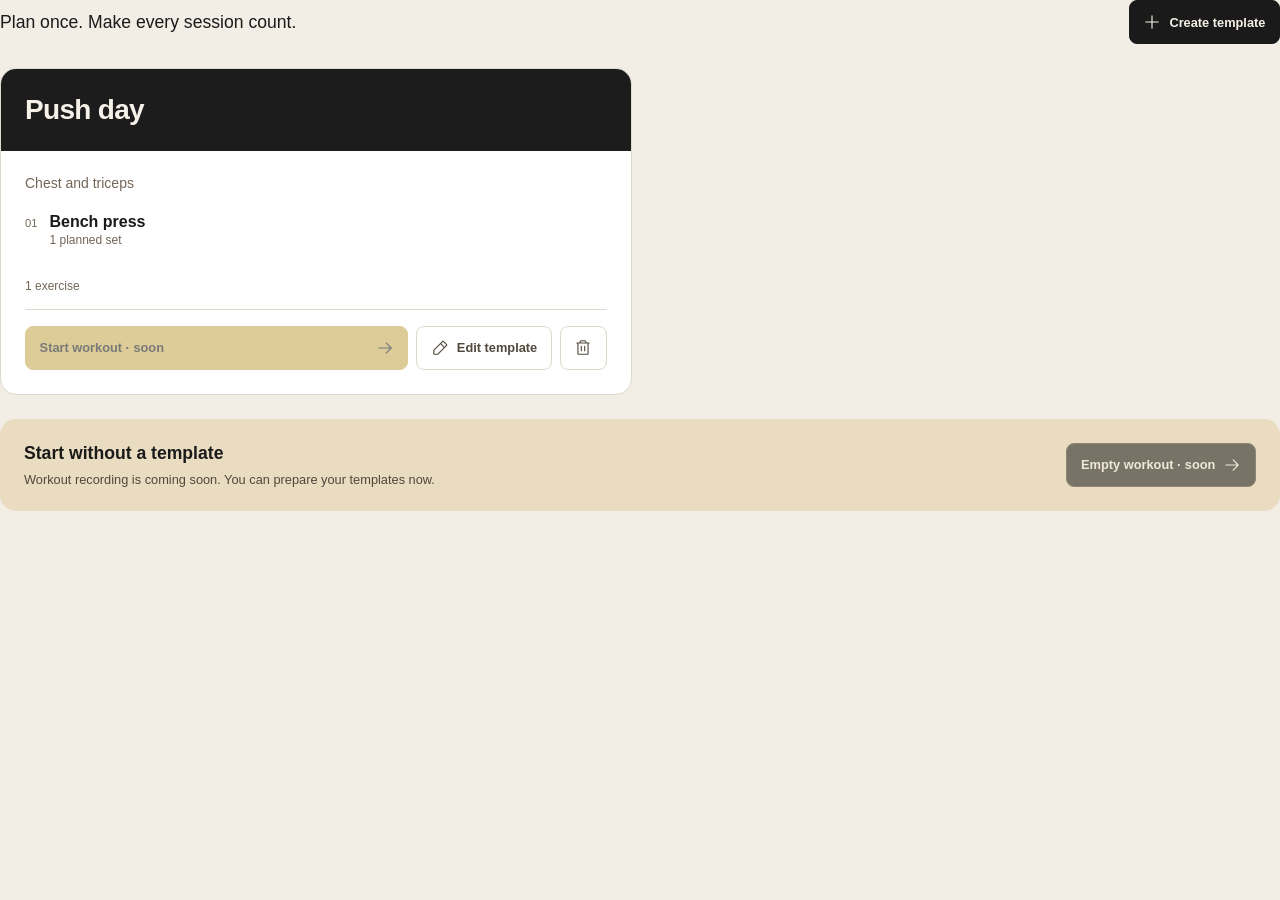
workout templates › rejects invalid weight and protects an unsaved draft when cancelled
Click the button with aria-label "Edit Push day" at [484, 348], box [416, 326, 552, 370]
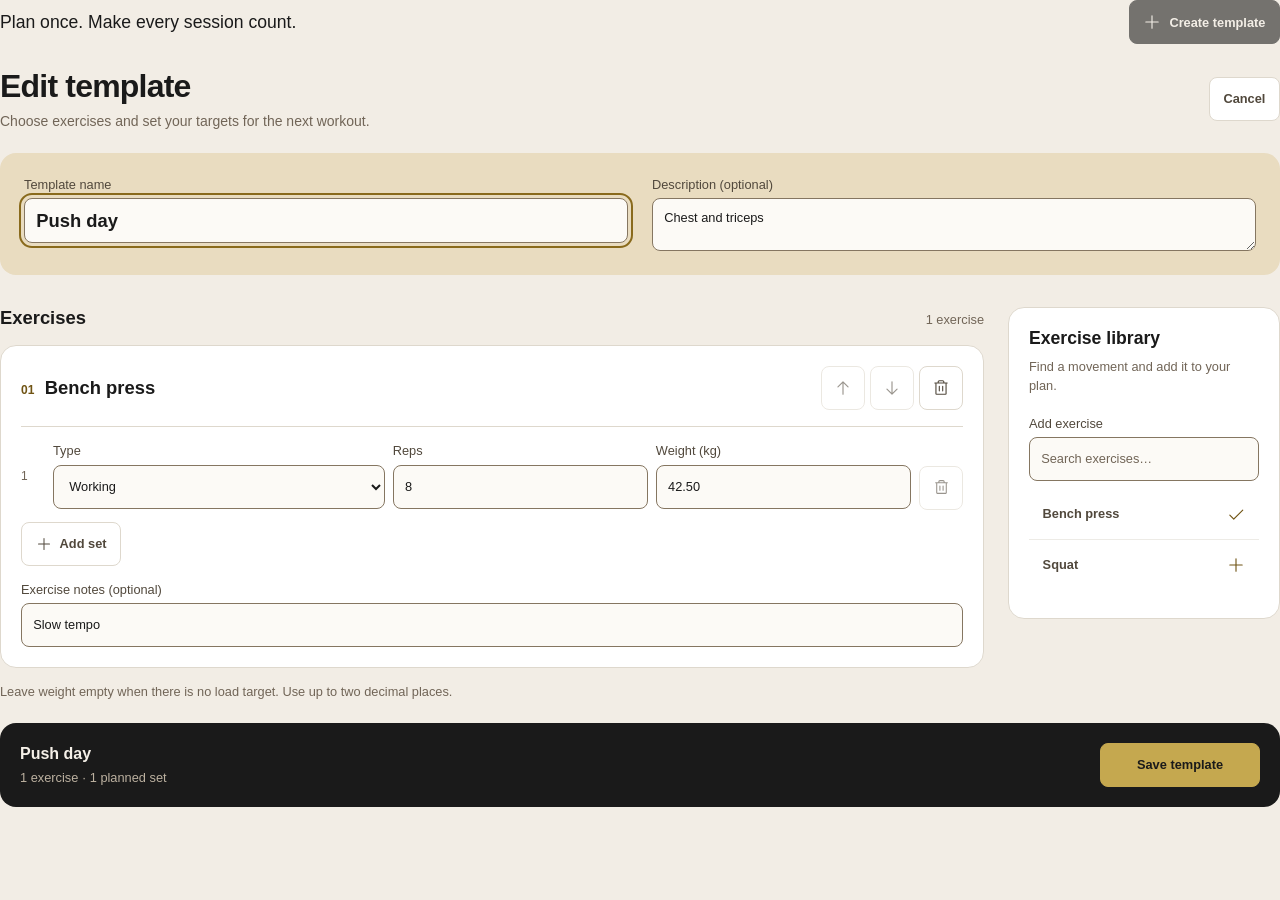
Replace the text in the field named "Exercise 1, set 1 weight (kg)" with "-1" at [783, 487], box [656, 465, 911, 509]
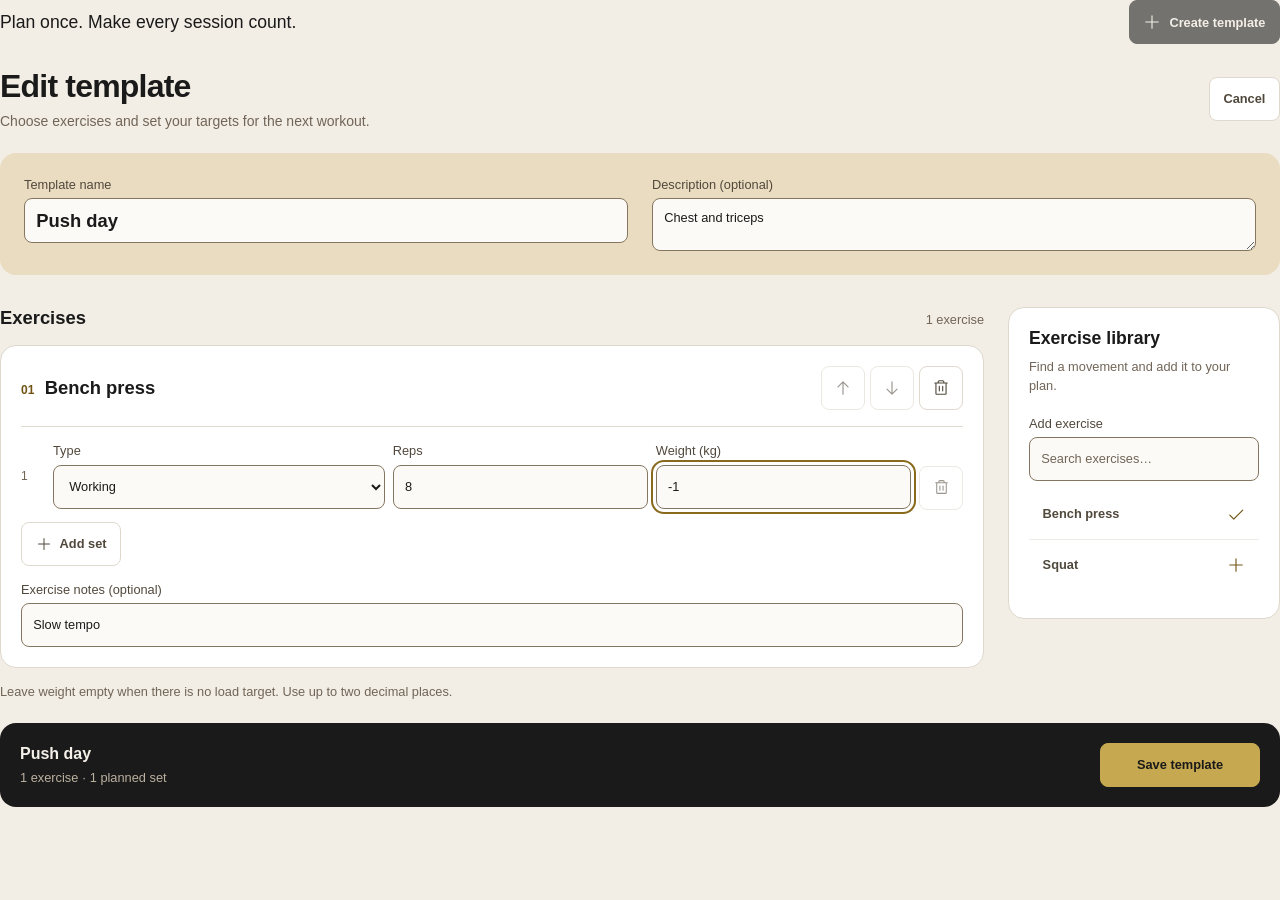
Click the button "Save template" at [1180, 765], box [1100, 743, 1260, 787]
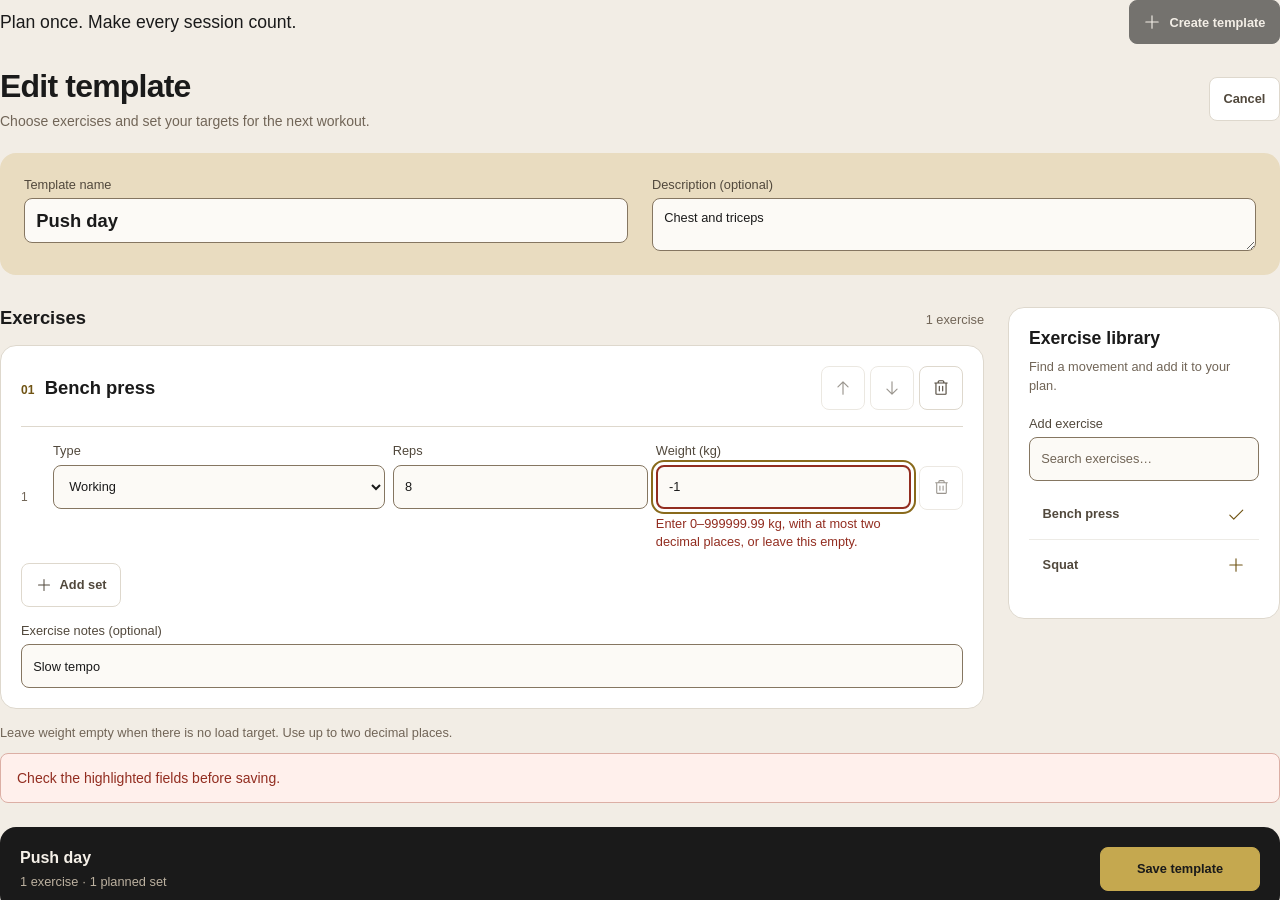
expect the message shows "Check the highlighted fields": met, box [17, 770, 280, 786]
Click the button "Cancel" at [1244, 98], box [1209, 76, 1279, 120]
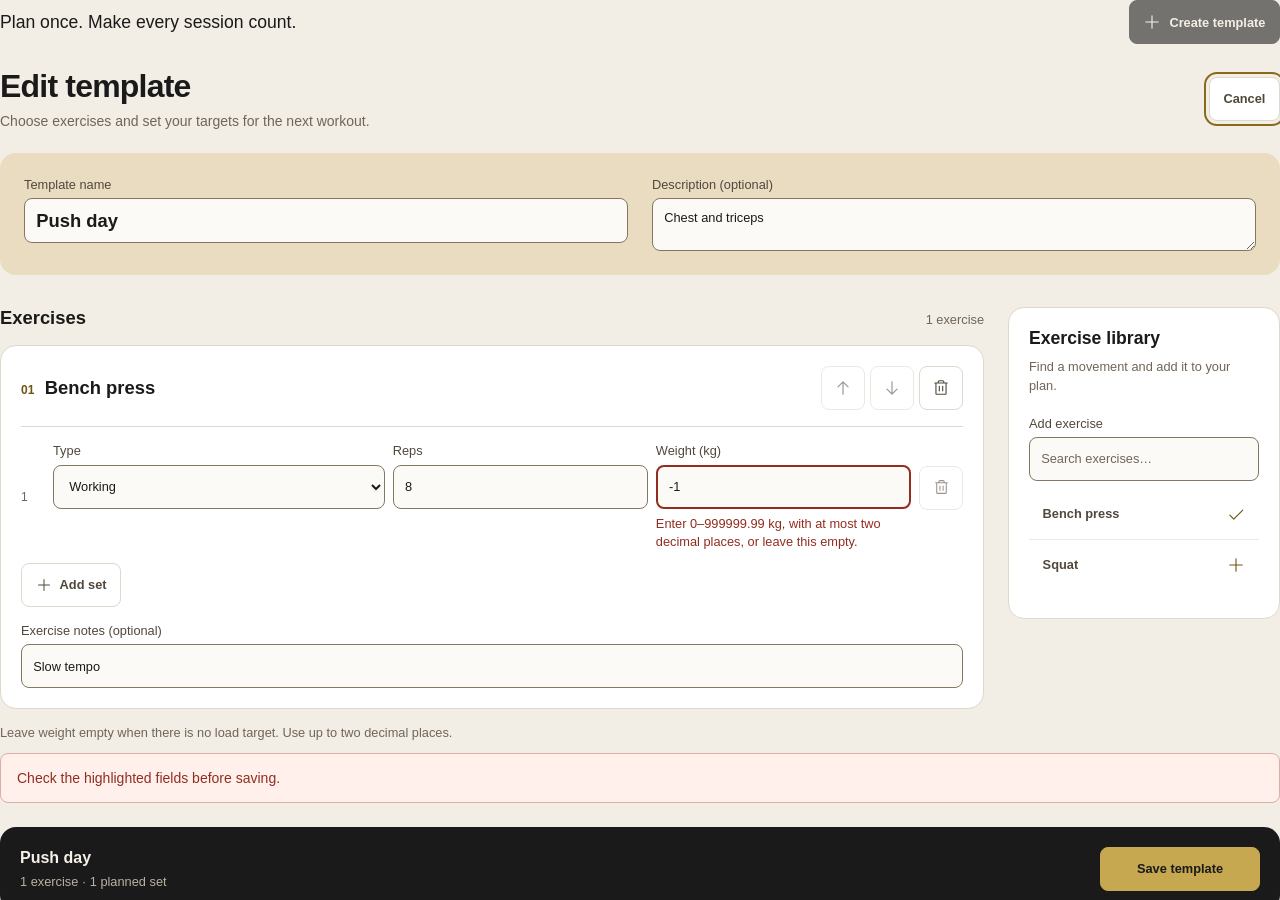
expect the field labelled "Template name" is shown: met, box [24, 198, 628, 243]
Click the button "Cancel" at [1244, 98], box [1209, 76, 1279, 120]
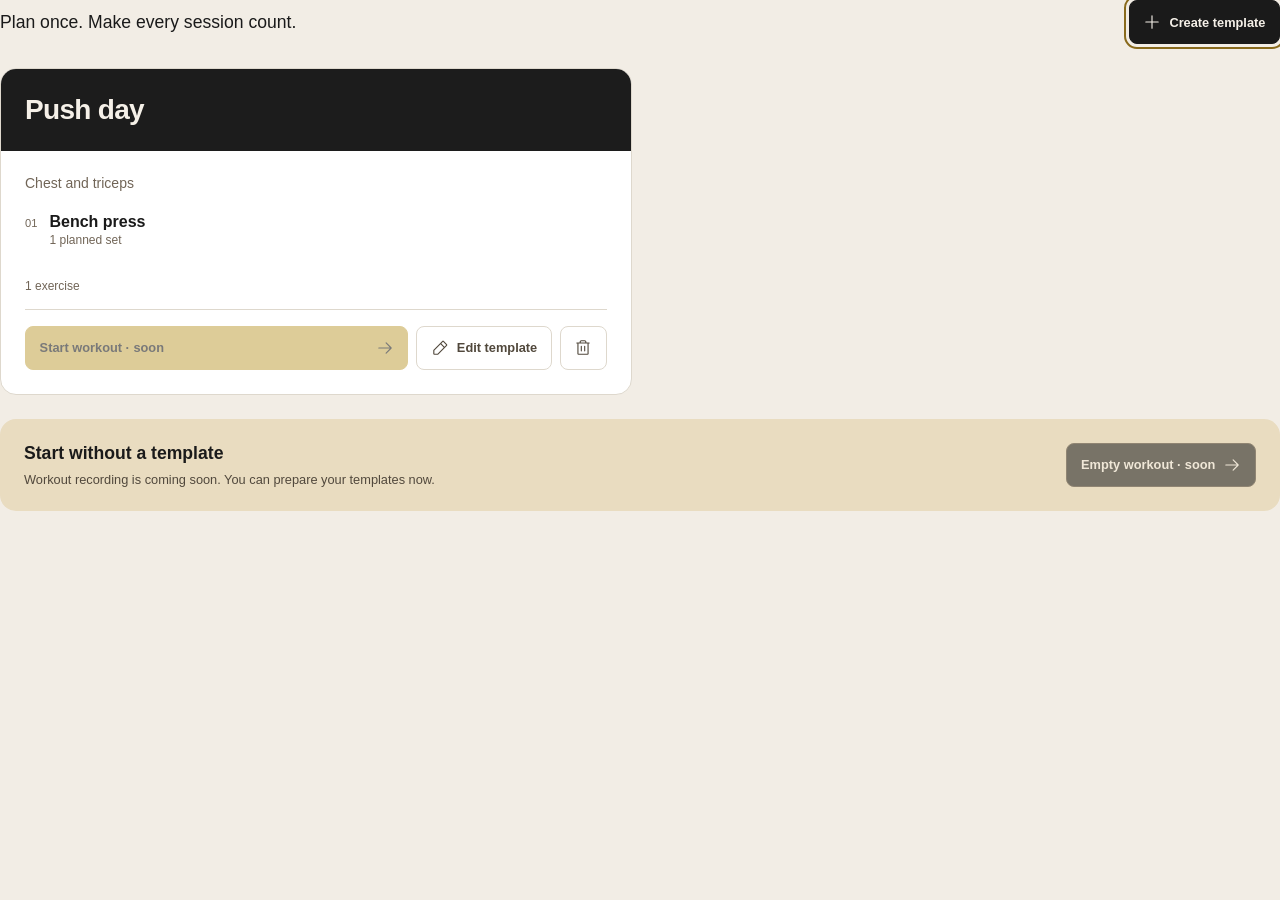
expect the label labelled "Template name" is gone: met
